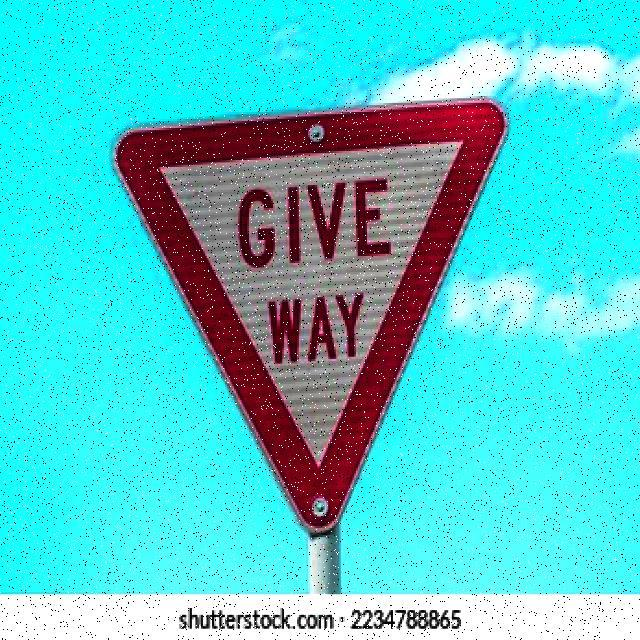Traffic sign: (110, 93, 513, 536)
